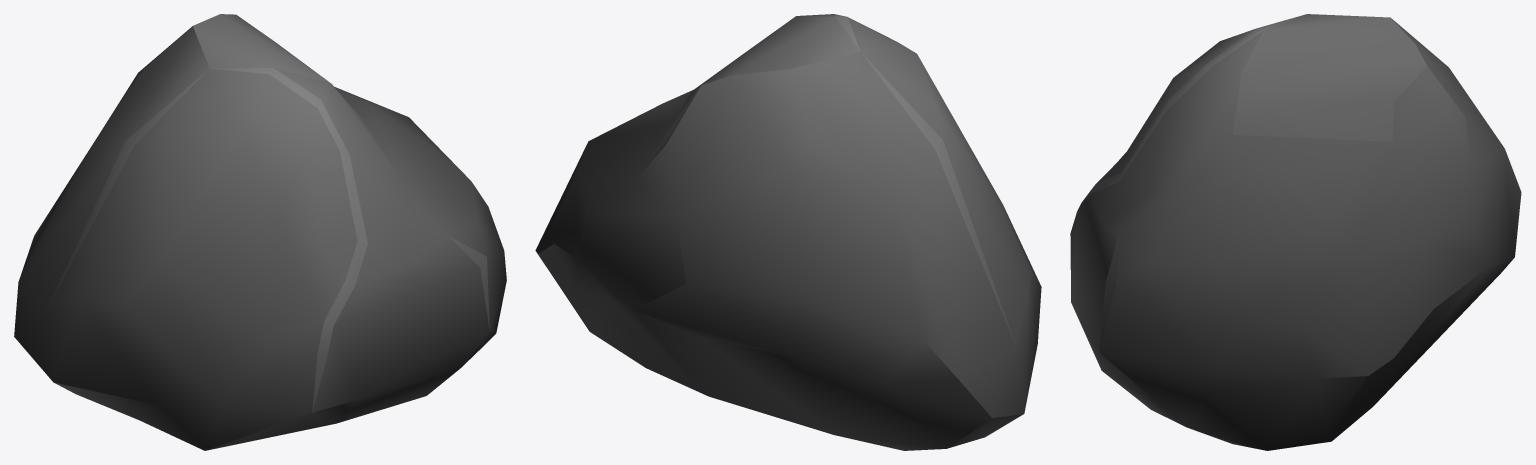
File: rocks.glb
3 views of the same model, side by side, from view 1: azimuth 30°, elevation 25°; view 2: azimuth 150°, elevation 25°; view 3: azimuth 270°, elevation 25° (orthographic). The views are drawn at different scales.
Visible parts, largest first — view 1: rocks; view 2: rocks; view 3: rocks.
Boxes of the visible parts, x1=… form: rocks: x1=14, y1=14, x2=506, y2=450; rocks: x1=535, y1=14, x2=1041, y2=450; rocks: x1=1070, y1=14, x2=1521, y2=450.
Bounding box in the file's own units: 0.4359 × 0.315 × 0.3849.
1 material, 1 textured.
